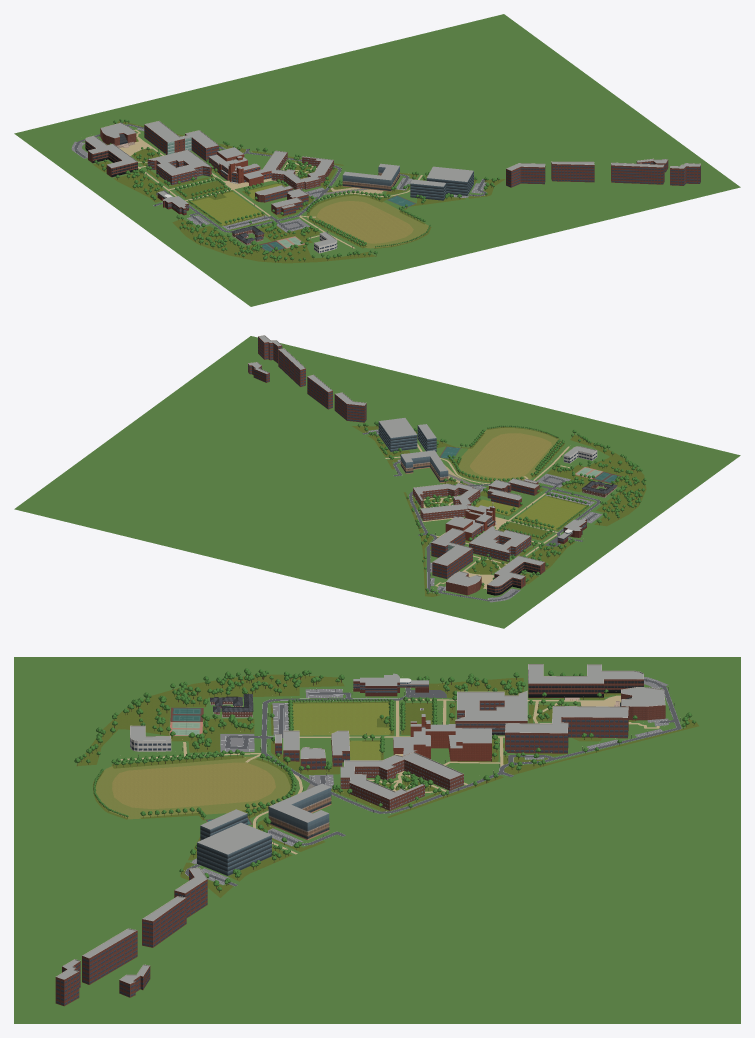
The model's file is campus_detail.glb.
The picture shows the model from 3 angles, top to bottom: view 1: azimuth 30°, elevation 25°; view 2: azimuth 150°, elevation 25°; view 3: azimuth 270°, elevation 25°; orthographic projection. The views are drawn at different scales.
Visible parts, largest first — view 1: Ground_base, Area_lawn, Area_field, charimsa, library, Area_hill, natural_science, Cube, Area_pitch, Area_tree, Area_road, humanities (+10 smaller); view 2: Ground_base, Area_lawn, Area_field, natural_science, Area_hill, charimsa, library, Area_road, Area_pitch, humanities, Cube, hananuri_raon (+8 smaller); view 3: Ground_base, Area_lawn, Area_field, charimsa, natural_science, Area_road, Area_hill, Area_pitch, Cube, hananuri_raon, humanities, pharmacy (+16 smaller).
Boxes of the visible parts, <box> form: Ground_base: <box>14,14,740,306</box>; Area_lawn: <box>93,121,505,263</box>; Area_field: <box>316,201,413,243</box>; charimsa: <box>144,121,218,160</box>; library: <box>147,150,211,185</box>; Area_hill: <box>191,184,284,225</box>; natural_science: <box>263,151,333,189</box>; Cube: <box>208,147,271,186</box>; Area_pitch: <box>306,195,430,248</box>; Area_tree: <box>175,181,425,248</box>; Area_road: <box>74,124,486,232</box>; humanities: <box>85,136,137,177</box>; Ground_base: <box>14,336,740,628</box>; Area_lawn: <box>352,426,646,596</box>; Area_field: <box>470,433,551,478</box>; natural_science: <box>413,483,480,520</box>; Area_hill: <box>475,496,588,530</box>; charimsa: <box>431,529,472,578</box>; library: <box>469,526,531,562</box>; Area_road: <box>362,431,600,601</box>; Area_pitch: <box>458,428,561,481</box>; humanities: <box>487,556,545,595</box>; Cube: <box>445,505,495,541</box>; hananuri_raon: <box>378,418,417,451</box>; Ground_base: <box>14,657,740,1023</box>; Area_lawn: <box>76,674,698,897</box>; Area_field: <box>112,762,275,809</box>; charimsa: <box>505,707,628,753</box>; natural_science: <box>340,753,463,810</box>; Area_road: <box>185,678,681,886</box>; Area_hill: <box>292,703,390,760</box>; Area_pitch: <box>95,756,290,819</box>; Cube: <box>393,714,491,761</box>; hananuri_raon: <box>197,822,271,875</box>; humanities: <box>528,665,643,697</box>; pharmacy: <box>268,783,331,840</box>.
Size of the model in its own units: 834 by 37.42 by 698.
68 materials, 38 textured.
